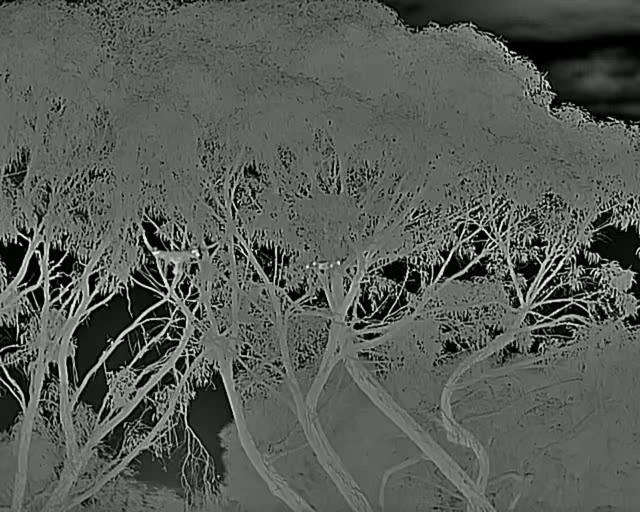DJI-Phantom: (152, 244, 204, 282)
